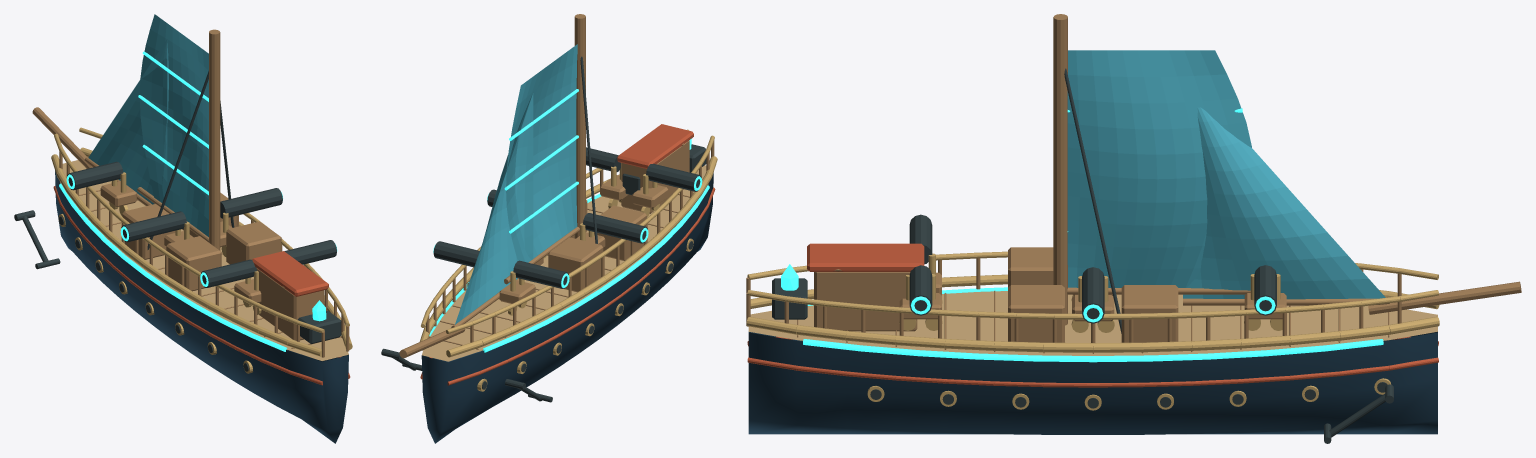
The model's file is ship_combat_cutter.glb.
The picture shows the model from 3 angles, left to right: view 1: azimuth 30°, elevation 25°; view 2: azimuth 150°, elevation 25°; view 3: azimuth 270°, elevation 25°; orthographic projection. The views are drawn at different scales.
Parts seen in each view (by area): view 1: ship_combat_cutter; view 2: ship_combat_cutter; view 3: ship_combat_cutter.
Part boxes in pixels (left/top/right/bottom): ship_combat_cutter: left=14, top=14, right=352, bottom=443; ship_combat_cutter: left=381, top=14, right=717, bottom=443; ship_combat_cutter: left=746, top=14, right=1521, bottom=443.
Size of the model in its own units: 2.86 by 5.68 by 9.56.
